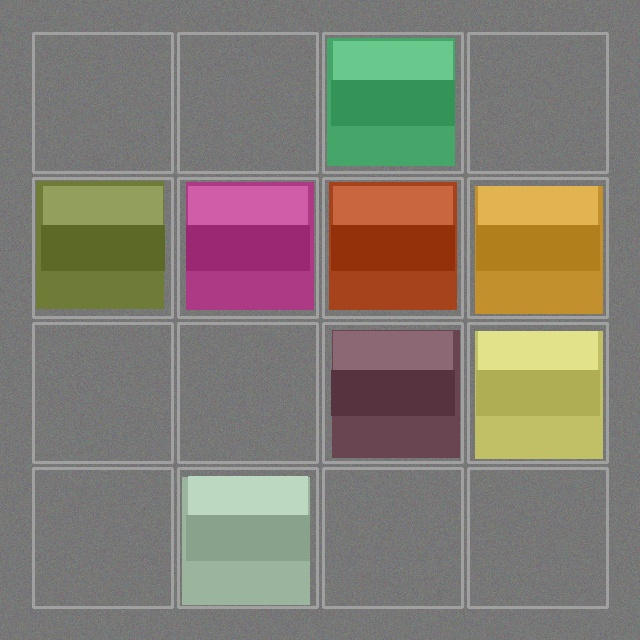space-empty: (35, 35, 170, 170), (180, 35, 315, 170), (470, 35, 605, 170), (35, 325, 170, 460), (180, 325, 315, 460), (35, 470, 170, 605), (325, 470, 460, 605), (470, 470, 605, 605)
space-occupied: (325, 35, 460, 170), (35, 180, 170, 315), (180, 180, 315, 315), (325, 180, 460, 315), (470, 180, 605, 315), (325, 325, 460, 460), (470, 325, 605, 460), (180, 470, 315, 605)
